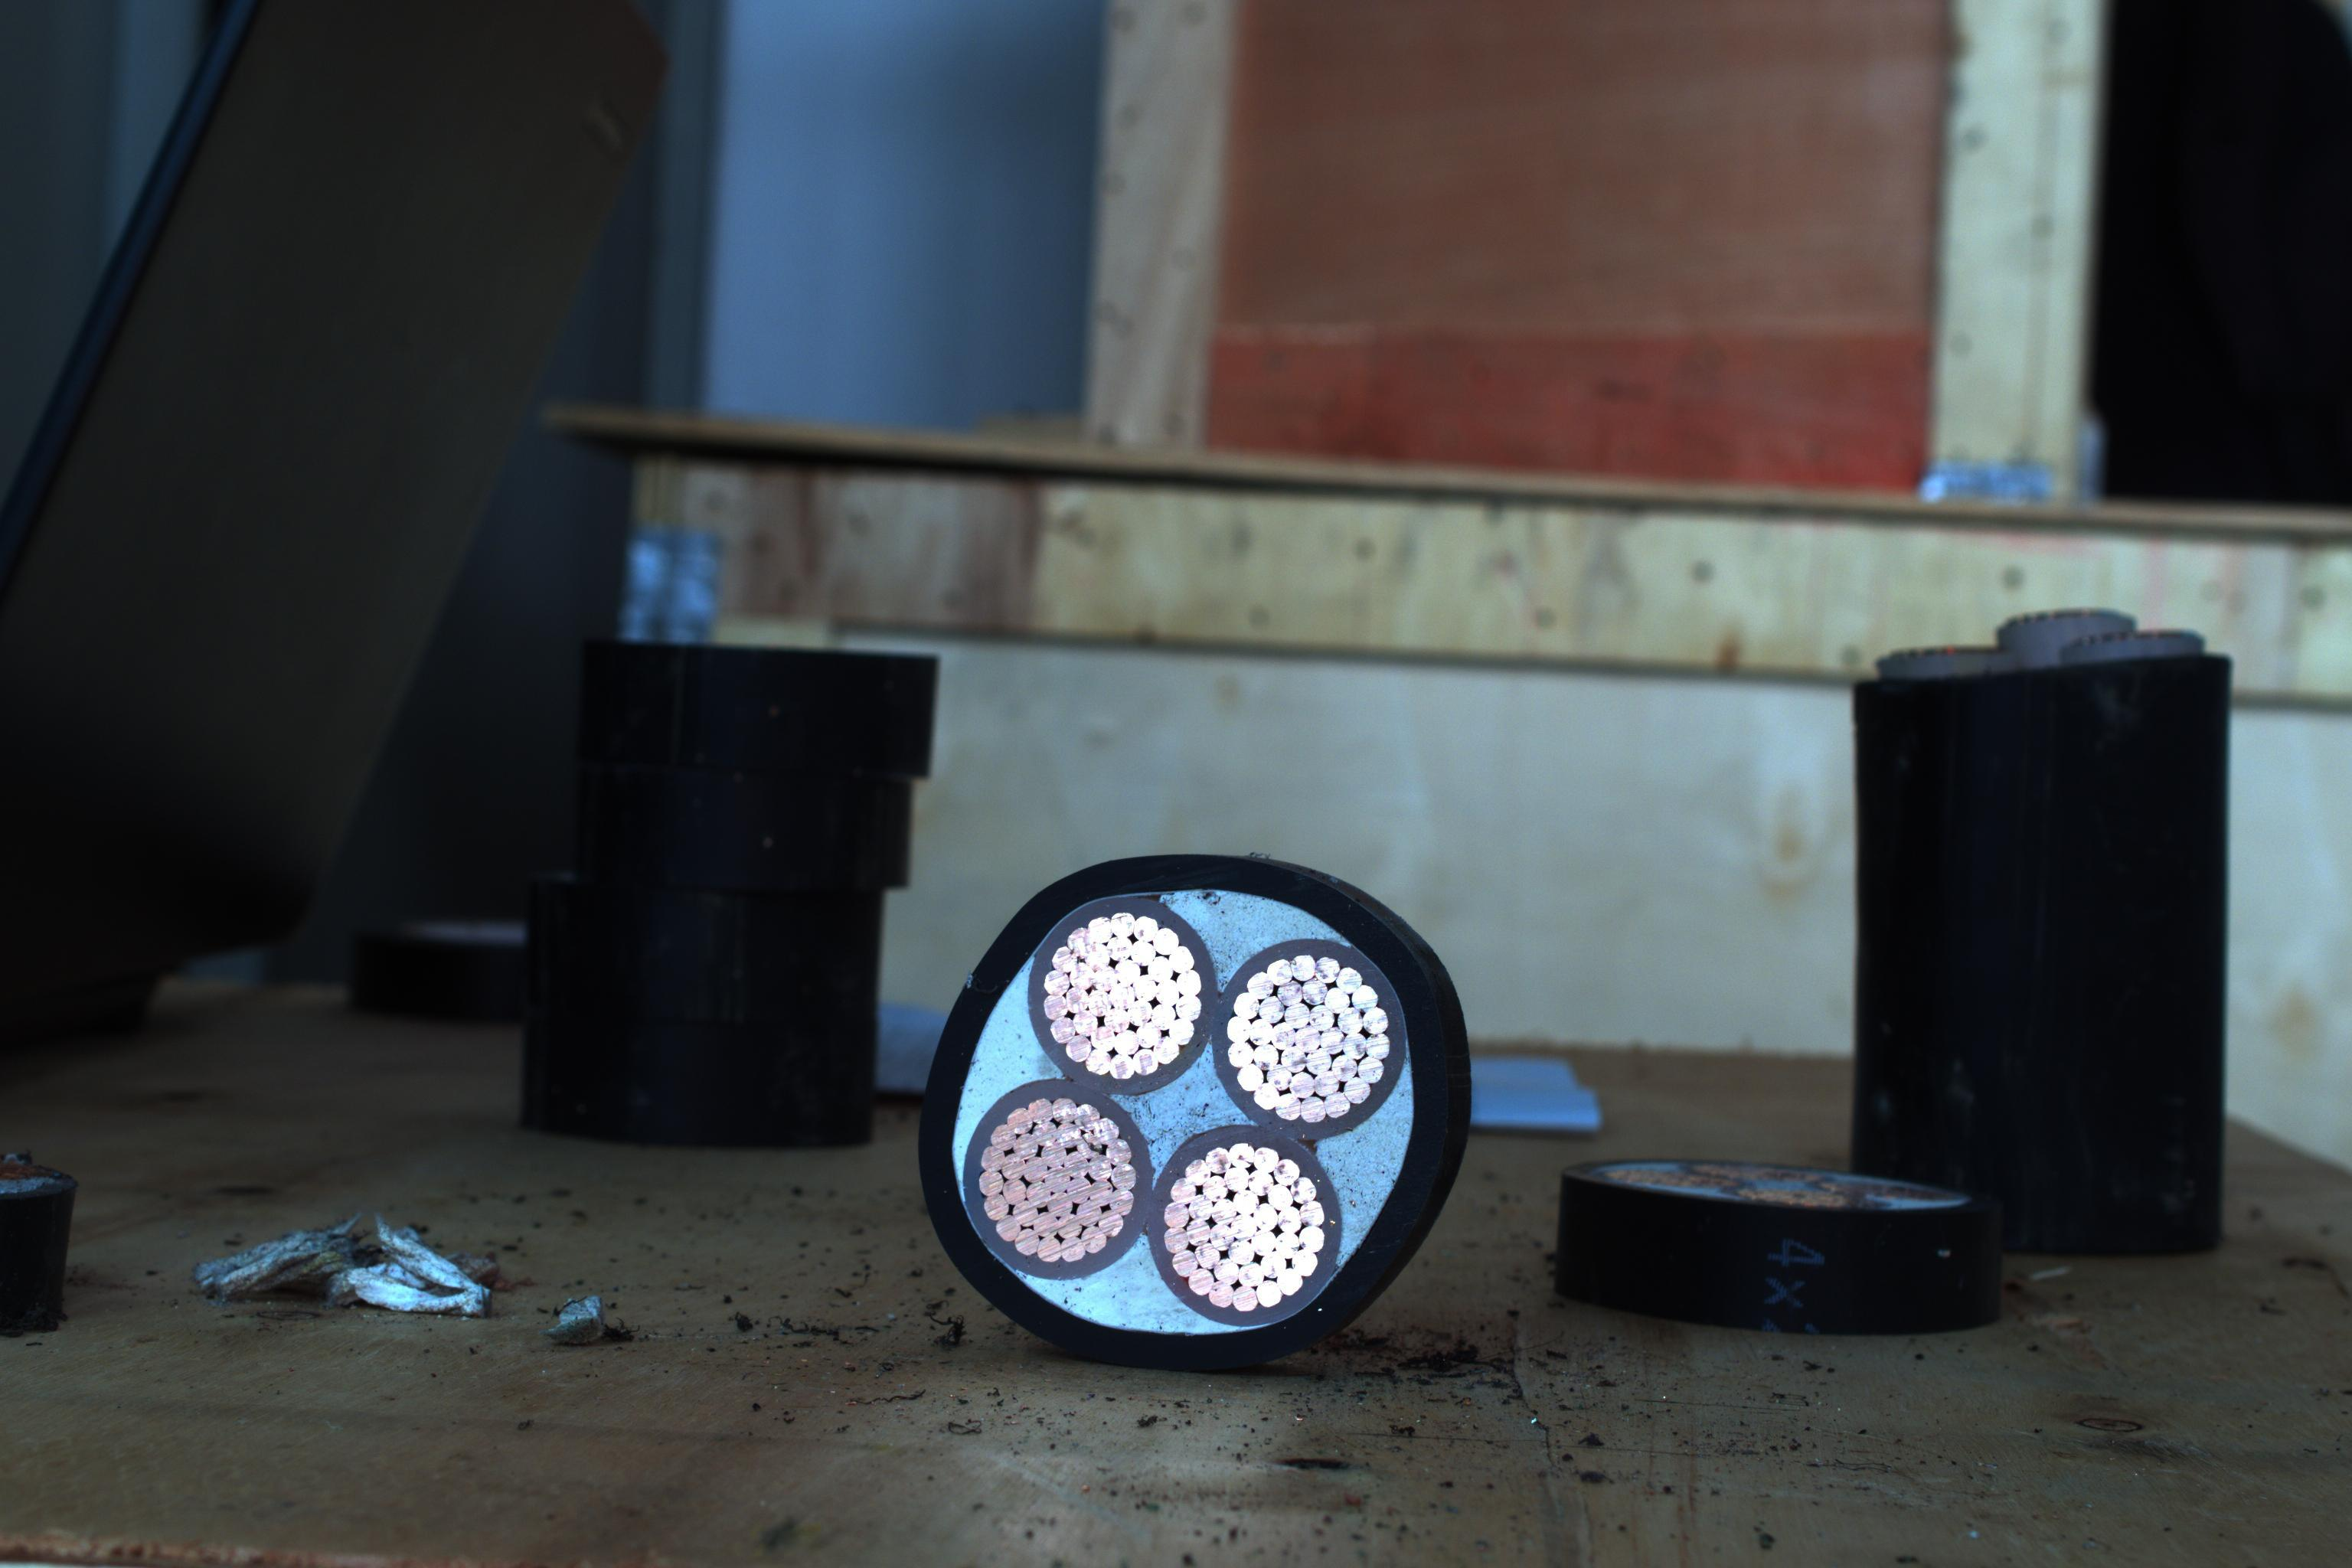YJV_0.6_1kV_4x240: (912, 861, 1421, 1344)
